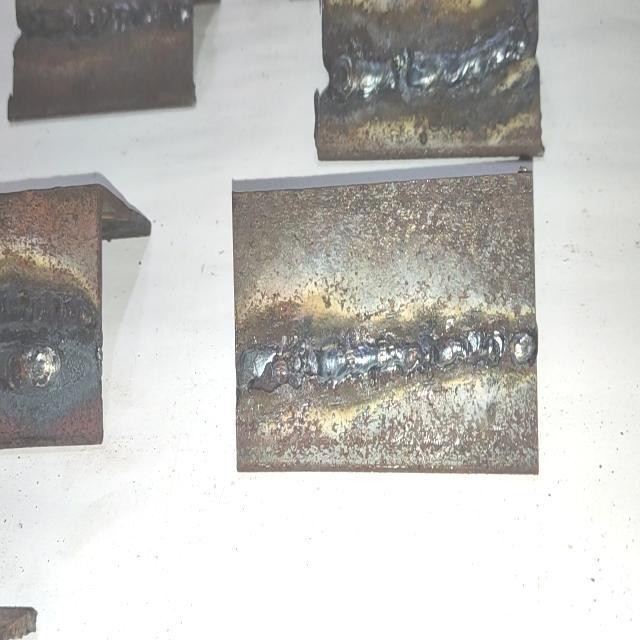Defect: (394, 306, 534, 399), (3, 282, 97, 391), (493, 0, 537, 70), (384, 34, 424, 110)
Welding Line: (246, 322, 534, 395), (336, 8, 534, 100)
Workpiece: (228, 172, 538, 476), (319, 0, 540, 160), (0, 176, 100, 442), (15, 0, 198, 116)
